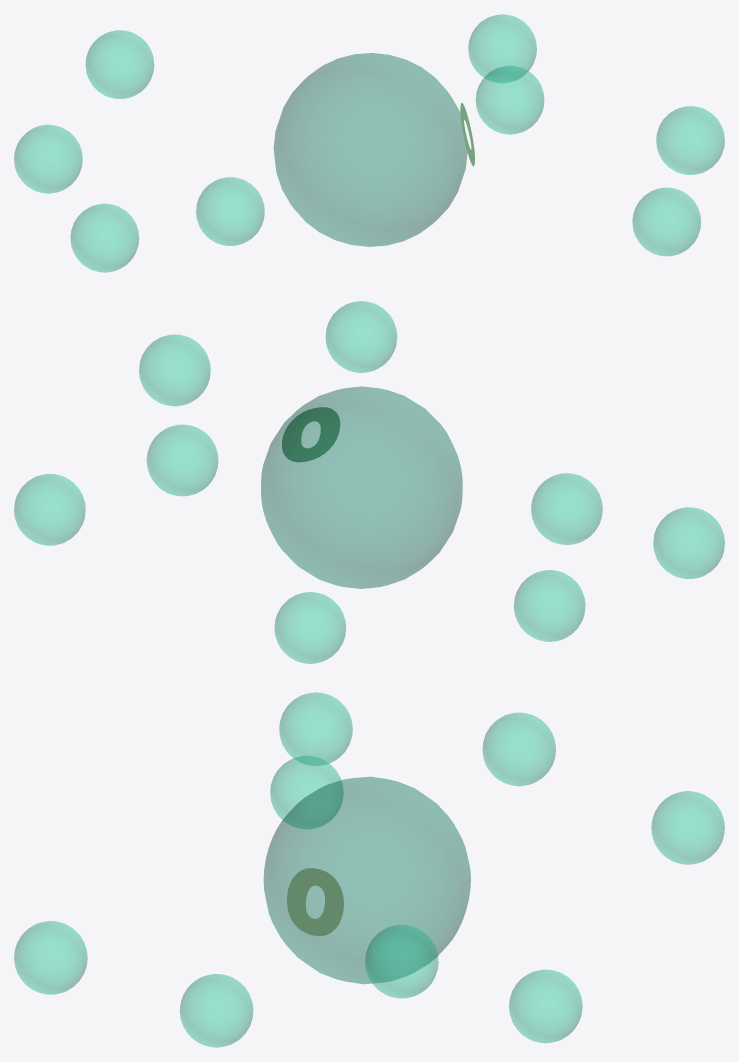
Rendered from OxygenAtom.gltf.
3 views of the same model, one above another, from view 1: azimuth 30°, elevation 25°; view 2: azimuth 150°, elevation 25°; view 3: azimuth 270°, elevation 25° (orthographic). The views are drawn at different scales.
Parts seen in each view (by area): view 1: Sphere, Sphere.008, Sphere.001, Sphere.007, Sphere.003, Sphere.006, Sphere.002, Sphere.005, Sphere.004; view 2: Sphere, Sphere.004, Sphere.007, Sphere.003, Sphere.005, Sphere.006, Sphere.008, Sphere.001, Sphere.002, Text; view 3: Sphere, Sphere.004, Sphere.001, Sphere.003, Sphere.006, Sphere.005, Sphere.007, Sphere.002, Sphere.008, Text.
Part boxes in pixels (bbox=[...]): Sphere: bbox=[274, 53, 467, 246]; Sphere.008: bbox=[196, 177, 264, 245]; Sphere.001: bbox=[656, 106, 724, 174]; Sphere.007: bbox=[70, 204, 138, 272]; Sphere.003: bbox=[632, 188, 700, 255]; Sphere.006: bbox=[14, 125, 82, 193]; Sphere.002: bbox=[476, 66, 543, 134]; Sphere.005: bbox=[86, 30, 153, 98]; Sphere.004: bbox=[468, 14, 536, 82]; Sphere: bbox=[261, 386, 462, 588]; Sphere.004: bbox=[14, 474, 85, 545]; Sphere.007: bbox=[653, 507, 724, 578]; Sphere.003: bbox=[326, 301, 396, 372]; Sphere.005: bbox=[274, 592, 345, 663]; Sphere.006: bbox=[514, 570, 585, 641]; Sphere.008: bbox=[531, 473, 602, 544]; Sphere.001: bbox=[139, 334, 210, 405]; Sphere.002: bbox=[147, 425, 218, 495]; Text: bbox=[282, 407, 340, 462]; Sphere: bbox=[264, 777, 470, 983]; Sphere.004: bbox=[509, 970, 582, 1042]; Sphere.001: bbox=[180, 974, 252, 1047]; Sphere.003: bbox=[14, 921, 87, 994]; Sphere.006: bbox=[482, 713, 555, 785]; Sphere.005: bbox=[651, 791, 724, 864]; Sphere.007: bbox=[279, 692, 352, 765]; Sphere.002: bbox=[365, 925, 438, 998]; Sphere.008: bbox=[270, 756, 343, 828]; Text: bbox=[287, 868, 343, 935].
Bounding box in the file's own units: 3.01 × 0.845 × 2.89.
